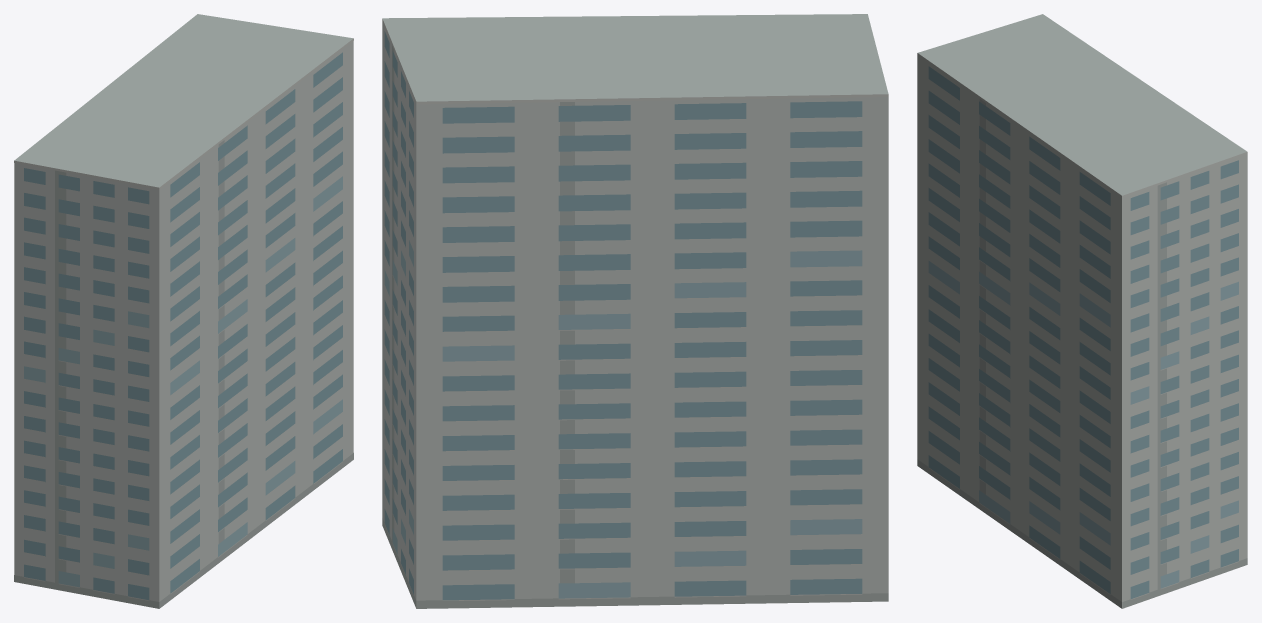
File: residential-579a827f-95d0-442c-891a-d948826feede.glb
3 views of the same model, side by side, from view 1: azimuth 30°, elevation 25°; view 2: azimuth 150°, elevation 25°; view 3: azimuth 270°, elevation 25° (orthographic). The views are drawn at different scales.
Parts seen in each view (by area): view 1: residential-579a827f-95d0-442c-891a-d948826feede.tmp; view 2: residential-579a827f-95d0-442c-891a-d948826feede.tmp; view 3: residential-579a827f-95d0-442c-891a-d948826feede.tmp.
Boxes of the visible parts, <box> form: residential-579a827f-95d0-442c-891a-d948826feede.tmp: <box>14,14,353,608</box>; residential-579a827f-95d0-442c-891a-d948826feede.tmp: <box>382,14,888,608</box>; residential-579a827f-95d0-442c-891a-d948826feede.tmp: <box>917,14,1247,608</box>.
Size of the model in its own units: 42.49 by 45 by 32.59.
